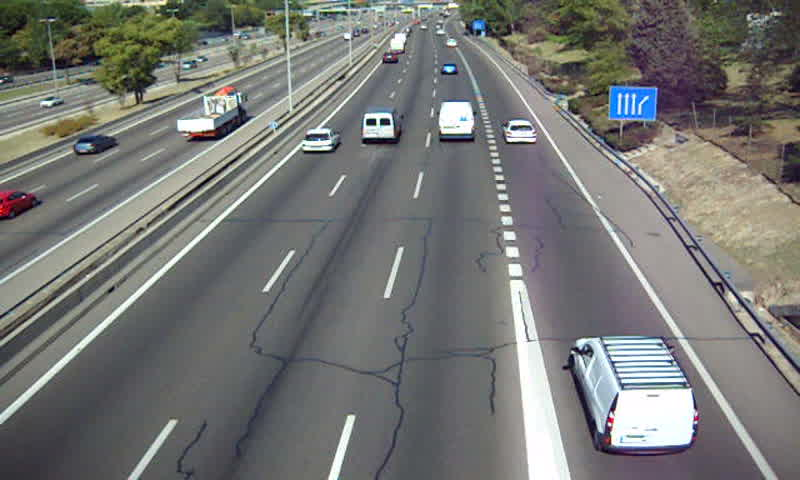car: (301, 126, 340, 154), (503, 119, 537, 144), (440, 62, 458, 77)
van: (574, 336, 699, 455), (361, 106, 403, 144), (440, 101, 475, 142)
